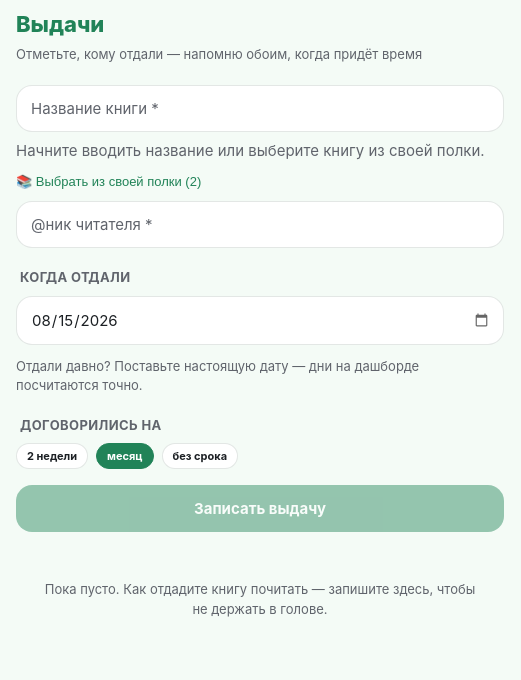
подсказка с полки в форме выдачи › ищет по автору, а не только по названию
In the field with placeholder "Название книги *": coordinates (260, 108) [16,84,504,132], type "лем"
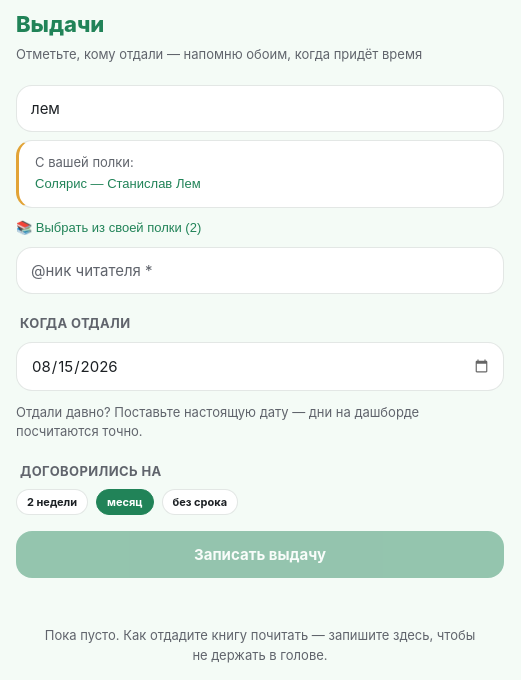
expect the button "Солярис — Станислав Лем" is shown: met, box [35,172,487,195]
